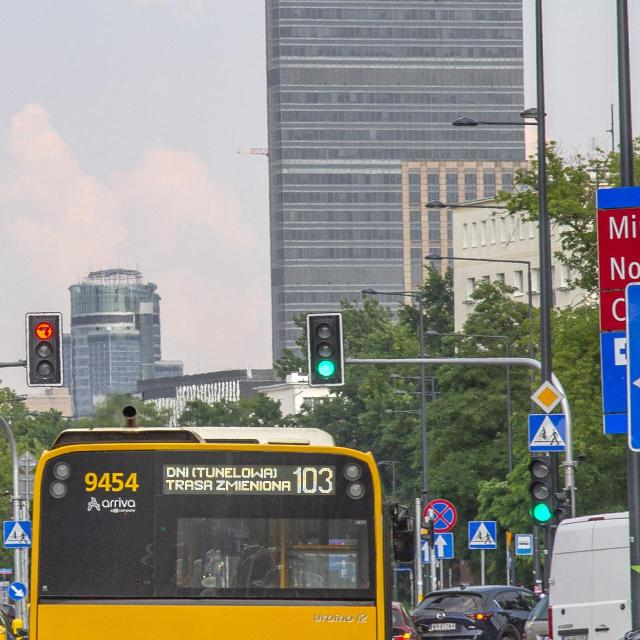Bus: (29, 428, 390, 640)
